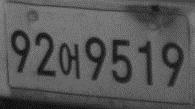1: (136, 39, 154, 87)
2: (34, 32, 57, 77)
5: (110, 38, 134, 84)
9: (160, 40, 185, 87), (10, 28, 31, 74), (85, 36, 106, 80)
어: (59, 41, 82, 80)
